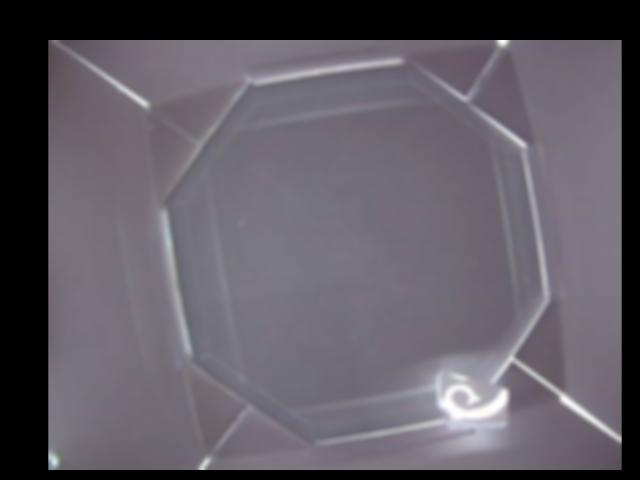China: (438, 367, 511, 427)
